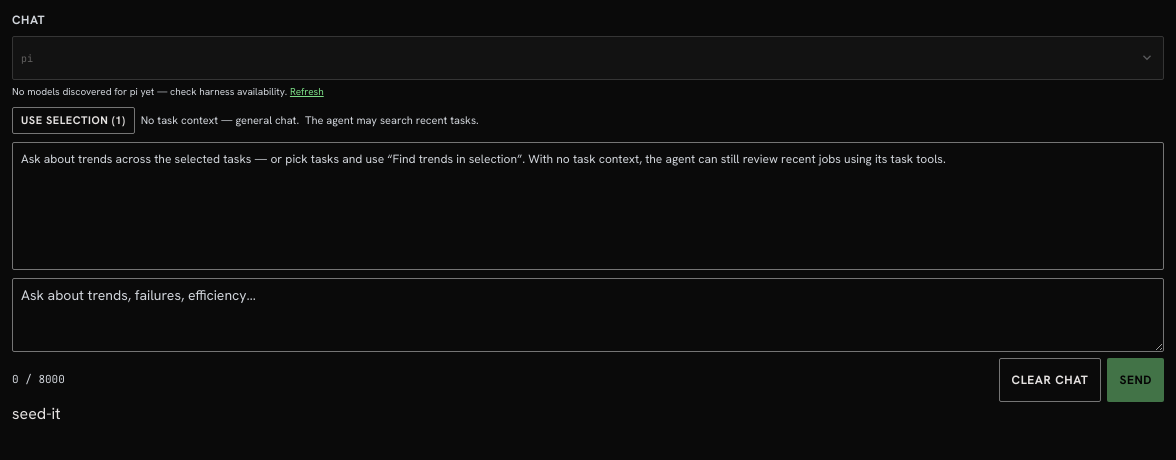
RetrospectiveChat › syncs context chips from the selection and removes them per chip
The width and height of the screenshot is (1176, 460).
Expected: the text "No task context — general chat." is shown, [141,112,299,128]
Click the button "Use selection (1)". click: (73,120)
box: [12,107,135,134]
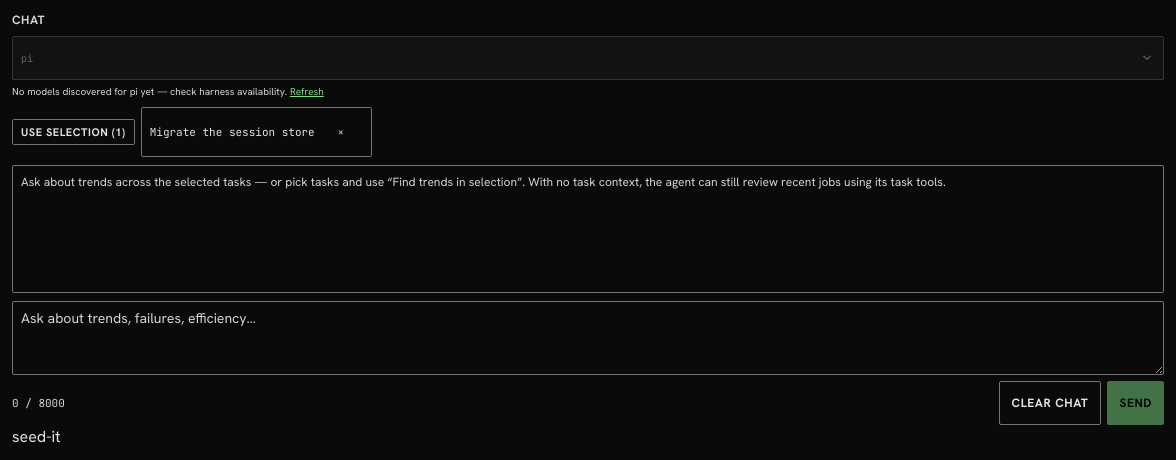
Now the element with test id "retrospective-chat-chip-task-failed-2" shows "Migrate the session store", box [150,125,315,139]
Click the button named "Remove Migrate the session store from chat context". click: (341,132)
box: [319,110,363,154]
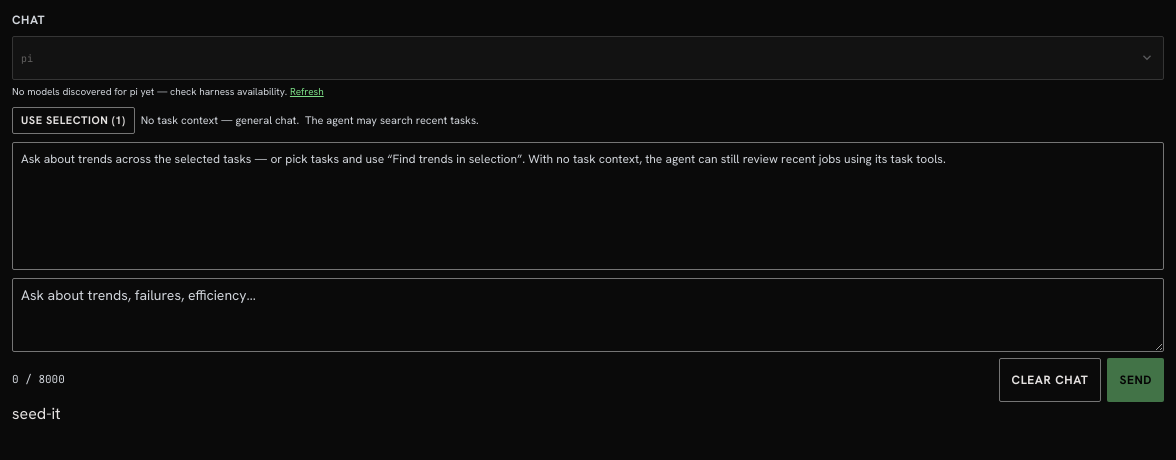
Now the element with test id "retrospective-chat-chip-task-failed-2" is gone
